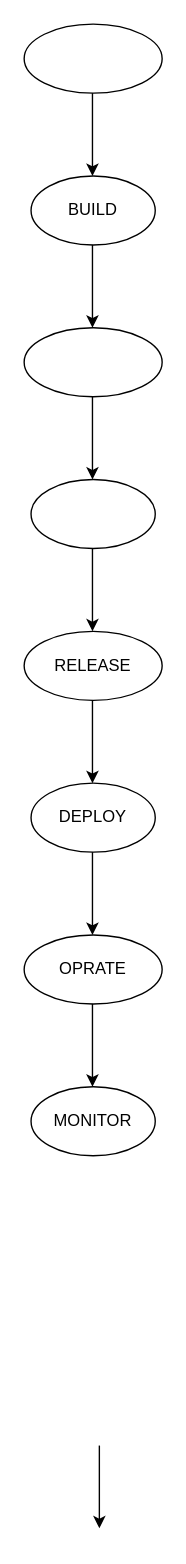
Image size: 186x1564. Some labels were removed from this diagram. The box of each missing label's shape, as (x1, y1, x2, y2) in pixels:
DEVELOP: (23, 326, 162, 397)
PLAN: (23, 23, 162, 93)
TEST: (30, 478, 155, 549)
